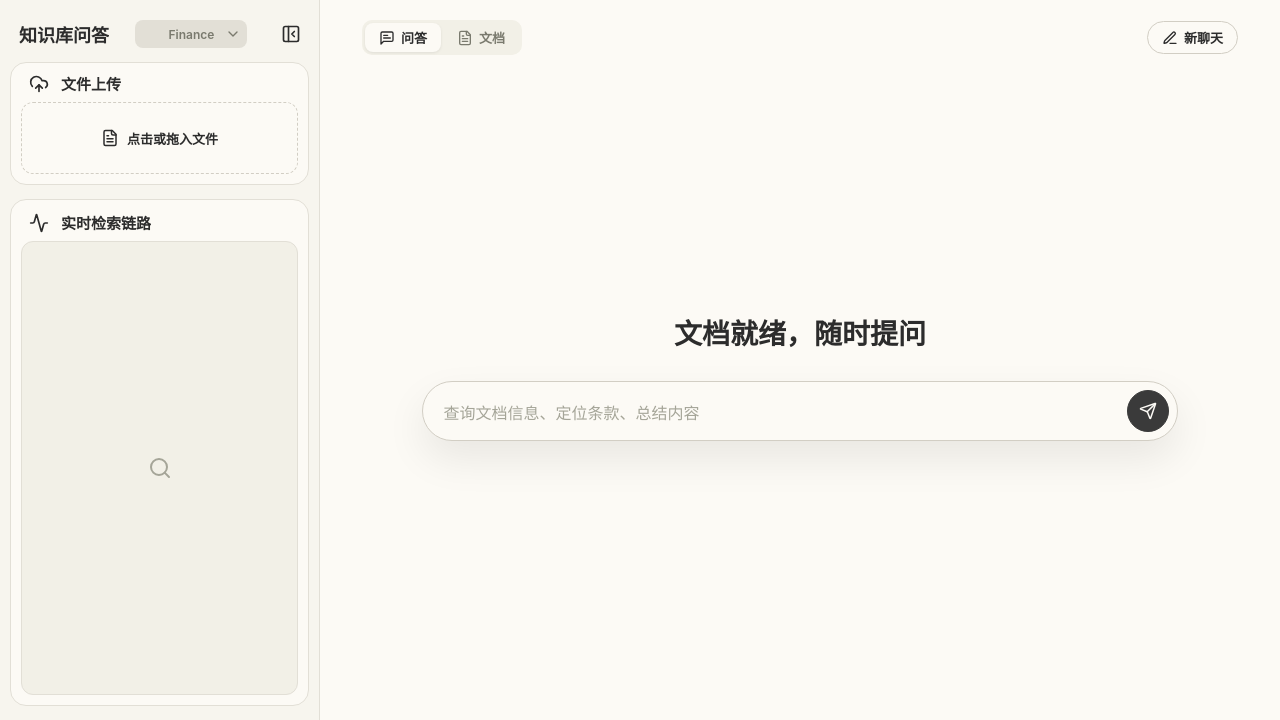
Test: FinRAG chat interface › submits a question from the compact composer and renders answer, sources, and timeline without latency text
This screenshot has width=1280, height=720.
Expected: the text "文档就绪，随时提问" is shown, [674,316,926,353]
Type "客户风险等级如何匹配？" into the text box named "问题" at [779, 411], box [443,395,1115,427]
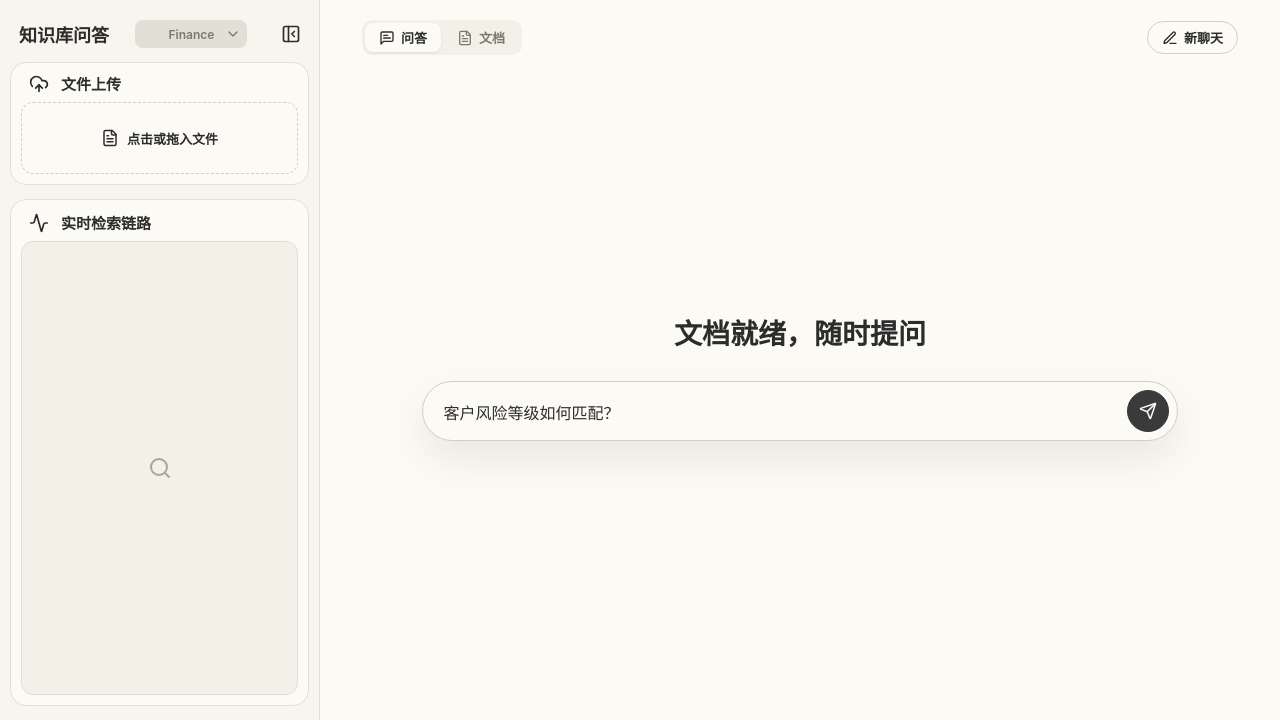
Click the button named "提交问题" at [1148, 411], box [1127,390,1169,432]
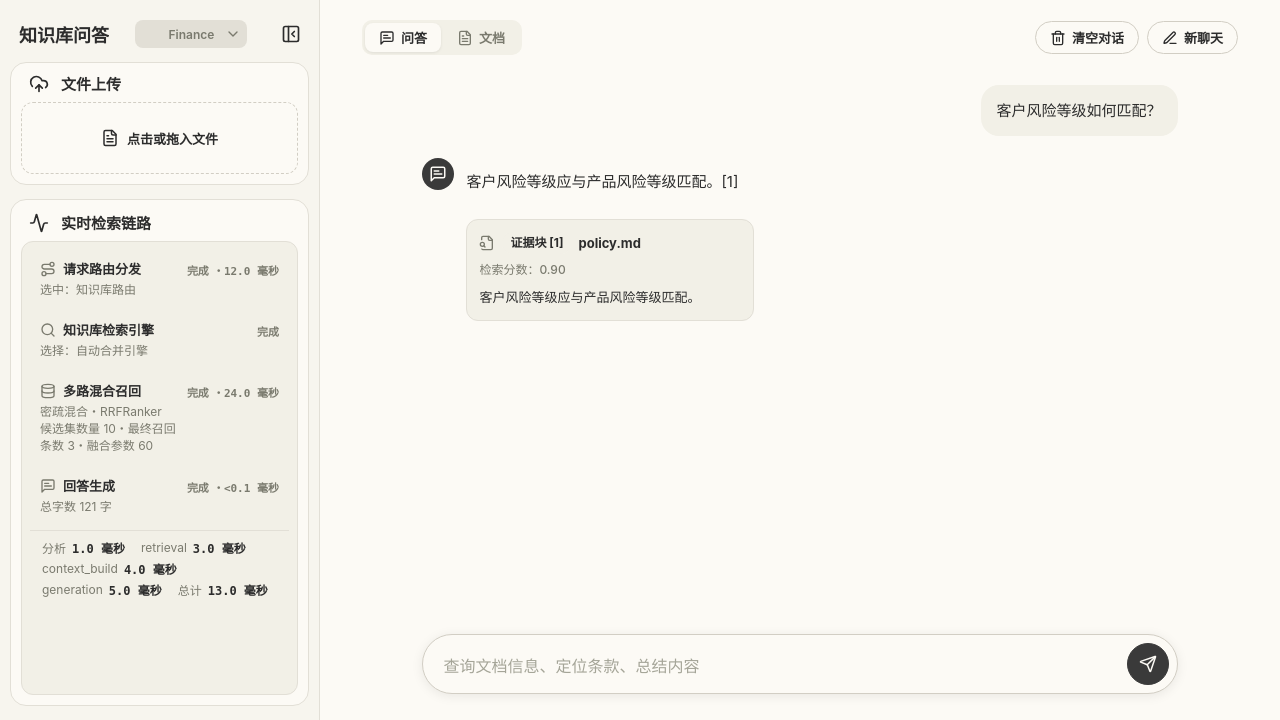
Now the text "客户风险等级应与产品风险等级匹配。[1]" is shown, box [466,168,738,195]
Now the element with class "source-card" shows "policy.md", box [578,235,641,251]
Now the text "请求路由分发" is shown, box [63,259,141,278]
